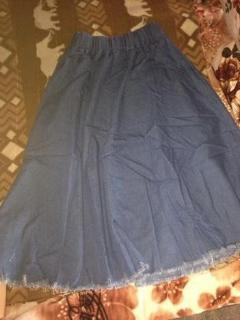skirt: (0, 21, 239, 296)
